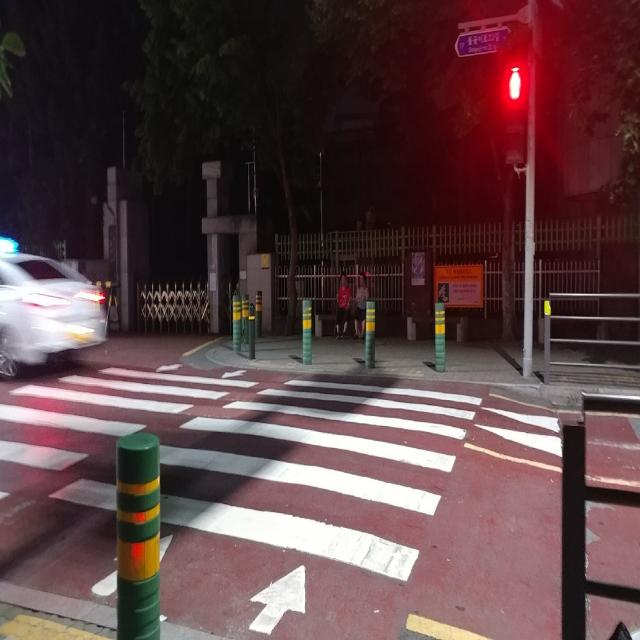빨간불: (502, 61, 526, 167)
횡단보도: (0, 364, 482, 634)
